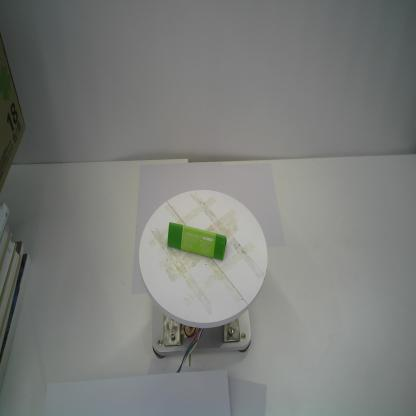Stationery: (165, 220, 229, 264)
